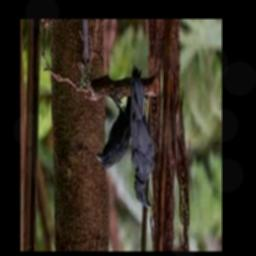Crow: (97, 64, 142, 169), (131, 67, 152, 209)
